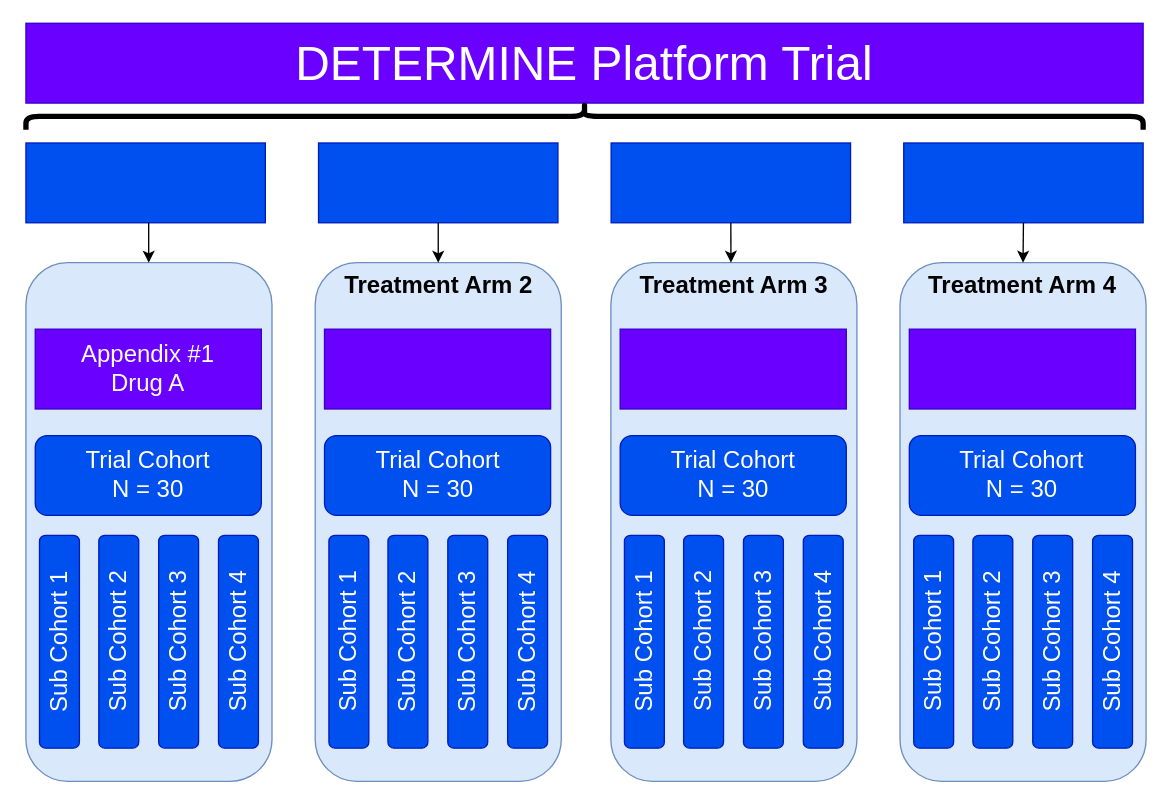
This 1169x805 diagram has some shape labels left out. The shapes that lost their labels are listed below. From the top down, each one's box as (x1, y1, x2, y2) in pixels, then its label:
(25, 142, 265, 223): Molecular Grouping 1
(317, 142, 558, 223): Molecular Grouping 2
(610, 142, 851, 223): Molecular Grouping 3
(902, 142, 1143, 223): Molecular Grouping 4
(323, 328, 551, 409): Appendix #2 Drug B
(619, 328, 846, 409): Appendix #3 Drug C
(908, 328, 1135, 409): Appendix #4 Drug D
(25, 261, 272, 781): Treatment Arm 1
